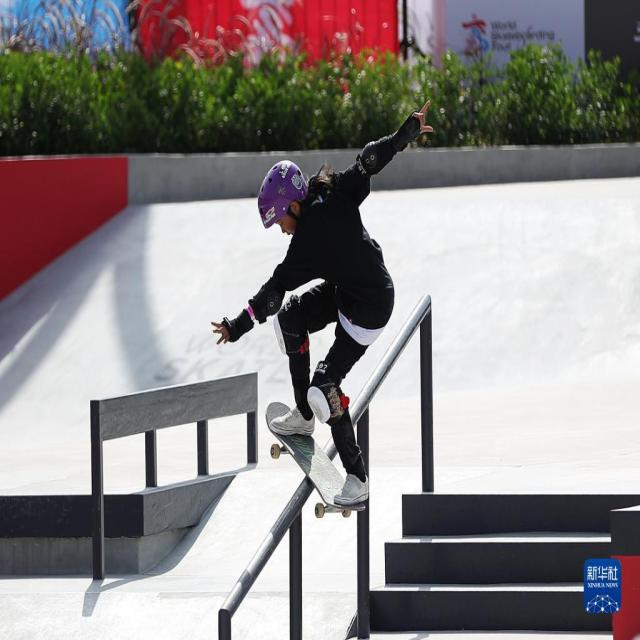sit: (243, 156, 408, 482)
